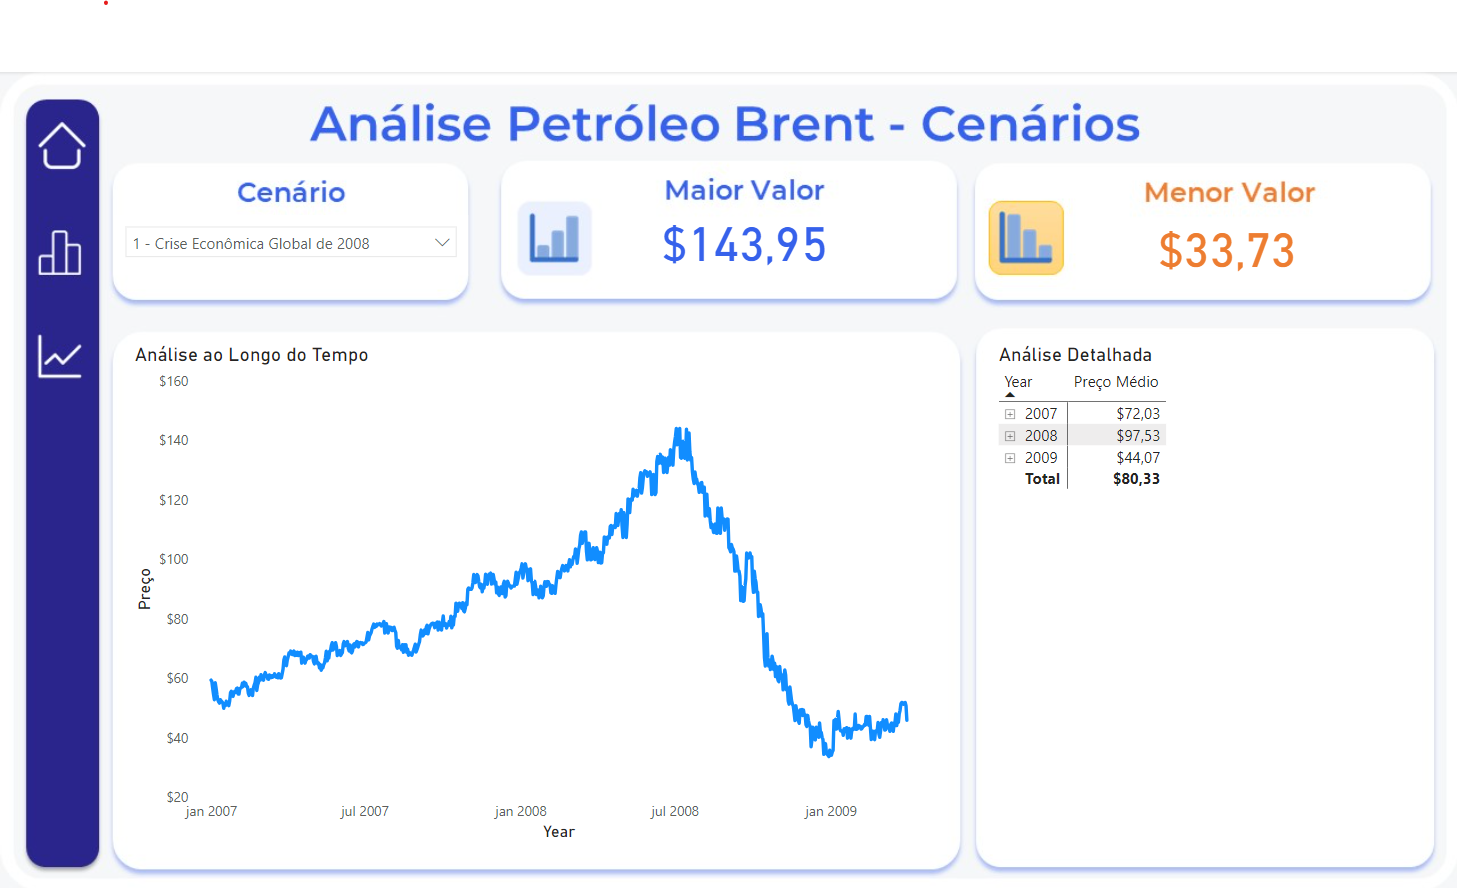

What the dashboard file says about the page in this screenshot:
{"tool":"powerbi","page":{"name":"Cenários","canvas":[1280,720],"ordinal":2},"visuals":[{"type":"lineChart","title":"Análise ao Longo do Tempo","fields":{"Category":["petroleo_brent.Data.Variation.Date Hierarchy.Year","petroleo_brent.Data.Variation.Date Hierarchy.Month","petroleo_brent.Data.Variation.Date Hierarchy.Day"],"Y":["Sum(petroleo_brent.Preco)"]},"box":[113,239,711,442],"z":0},{"type":"pivotTable","title":"Análise Detalhada","fields":{"Rows":["petroleo_brent.Data.Variation.Date Hierarchy.Year","petroleo_brent.Data.Variation.Date Hierarchy.Month","petroleo_brent.Data.Variation.Date Hierarchy.Day"],"Values":["Sum(petroleo_brent.Preco)"]},"box":[872,239,375,453],"z":1000},{"type":"card","fields":{"Values":["petroleo_brent.MaiorValor"]},"box":[521,98,267,98],"z":2000},{"type":"card","fields":{"Values":["petroleo_brent.MenorValor"]},"box":[925,110,306,86],"z":3000},{"type":"actionButton","box":[26,40,60,50],"z":4000},{"type":"slicer","fields":{"Values":["petroleo_brent.Cenario"]},"box":[100,126,311,53],"z":5000},{"type":"actionButton","box":[26,136,60,51],"z":6000}]}

Visuals, with their boxes on the page's 1280x720 design canvas (x1, y1, x2, y2). These are canvas units, not pixel positions in the 1457x888 screenshot, which may show the page scaled, cropped or inside an application window:
"Análise ao Longo do Tempo" lineChart: x1=113, y1=239, x2=824, y2=681
"Análise Detalhada" pivotTable: x1=872, y1=239, x2=1247, y2=692
card - petroleo_brent.MaiorValor: x1=521, y1=98, x2=788, y2=196
card - petroleo_brent.MenorValor: x1=925, y1=110, x2=1231, y2=196
actionButton: x1=26, y1=40, x2=86, y2=90
slicer - petroleo_brent.Cenario: x1=100, y1=126, x2=411, y2=179
actionButton: x1=26, y1=136, x2=86, y2=187
